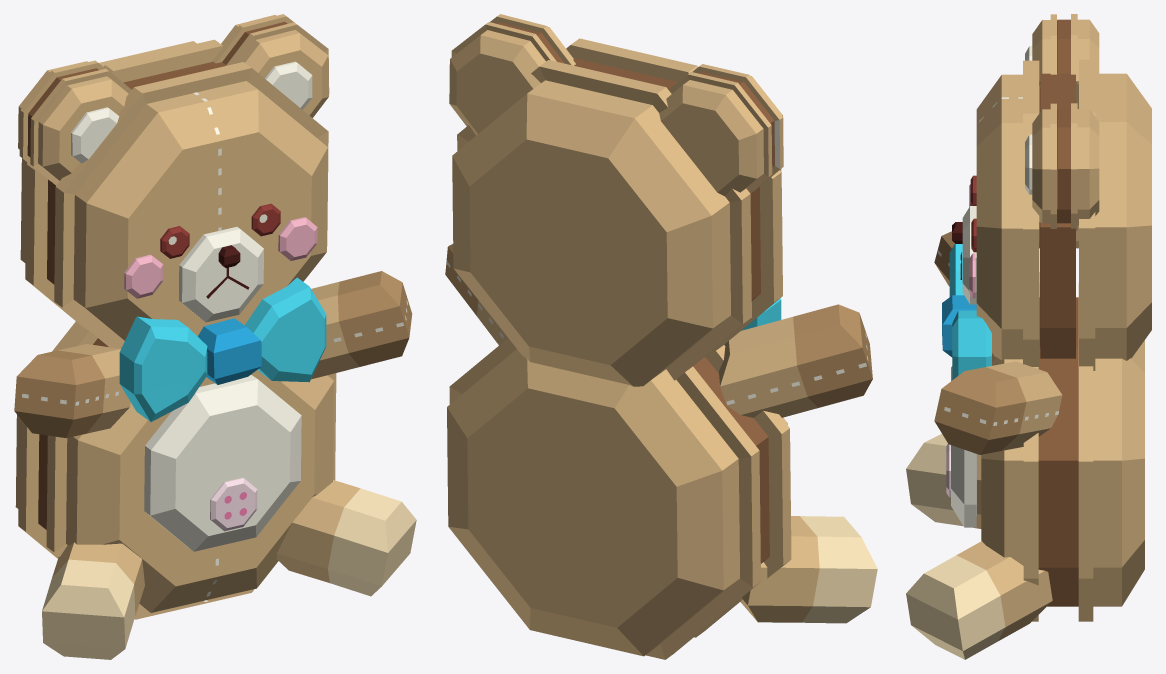
File: st1_2 block.fbx
3 renders of one model, left to right at view 1: azimuth 30°, elevation 25°; view 2: azimuth 150°, elevation 25°; view 3: azimuth 270°, elevation 25°, orthographic. The views are drawn at different scales.
Parts seen in each view (by area): view 1: st1_2_block_body1, st1_2_block_body_ad, st1_2_block_body2, st1_2_block_R_leg, st1_2_block_L_leg, st1_2_block_R_ear, st1_2_block_L_arm, st1_2_block_R_arm, st1_2_block_ribon2, st1_2_block_L_ear, st1_2_block_ribon1, st1_2_block_head_ad1 (+6 smaller); view 2: st1_2_block_body2, st1_2_block_L_arm, st1_2_block_R_ear, st1_2_block_L_leg, st1_2_block_body1, st1_2_block_L_ear, st1_2_block_R_arm; view 3: st1_2_block_body2, st1_2_block_body1, st1_2_block_R_leg, st1_2_block_R_arm, st1_2_block_L_ear, st1_2_block_R_ear, st1_2_block_L_leg, st1_2_block_ribon1, st1_2_block_body_ad, st1_2_block_head_ad1, st1_2_block_ribon3, st1_2_block_ribon2 (+1 smaller).
Boxes of the visible parts, x1,y1,x2,y2 form: st1_2_block_body1: (46,62,336,619); st1_2_block_body_ad: (144,375,301,551); st1_2_block_body2: (15,39,225,558); st1_2_block_R_leg: (277,480,416,596); st1_2_block_L_leg: (42,542,144,659); st1_2_block_R_ear: (18,60,131,185); st1_2_block_L_arm: (14,344,130,438); st1_2_block_R_arm: (311,271,412,379); st1_2_block_ribon2: (119,316,207,421); st1_2_block_L_ear: (212,14,329,117); st1_2_block_ribon1: (244,277,326,382); st1_2_block_head_ad1: (179,227,263,322); st1_2_block_body2: (447,58,769,659); st1_2_block_L_arm: (719,304,872,417); st1_2_block_R_ear: (659,64,783,196); st1_2_block_L_leg: (740,516,877,623); st1_2_block_body1: (566,38,791,637); st1_2_block_L_ear: (449,14,575,135); st1_2_block_R_arm: (445,244,507,345); st1_2_block_body2: (1038,59,1151,621); st1_2_block_body1: (976,60,1039,621); st1_2_block_R_leg: (906,541,1052,659); st1_2_block_R_arm: (934,361,1062,454); st1_2_block_L_ear: (1025,103,1099,230); st1_2_block_R_ear: (1025,14,1099,112); st1_2_block_L_leg: (906,434,981,528); st1_2_block_ribon1: (952,310,991,379); st1_2_block_body_ad: (951,366,977,527); st1_2_block_head_ad1: (962,206,976,304); st1_2_block_ribon3: (942,295,976,357); st1_2_block_ribon2: (949,243,963,296).
Size of the model in its own units: 723 by 945 by 400.
Materials: 1 (1 with a texture image).
